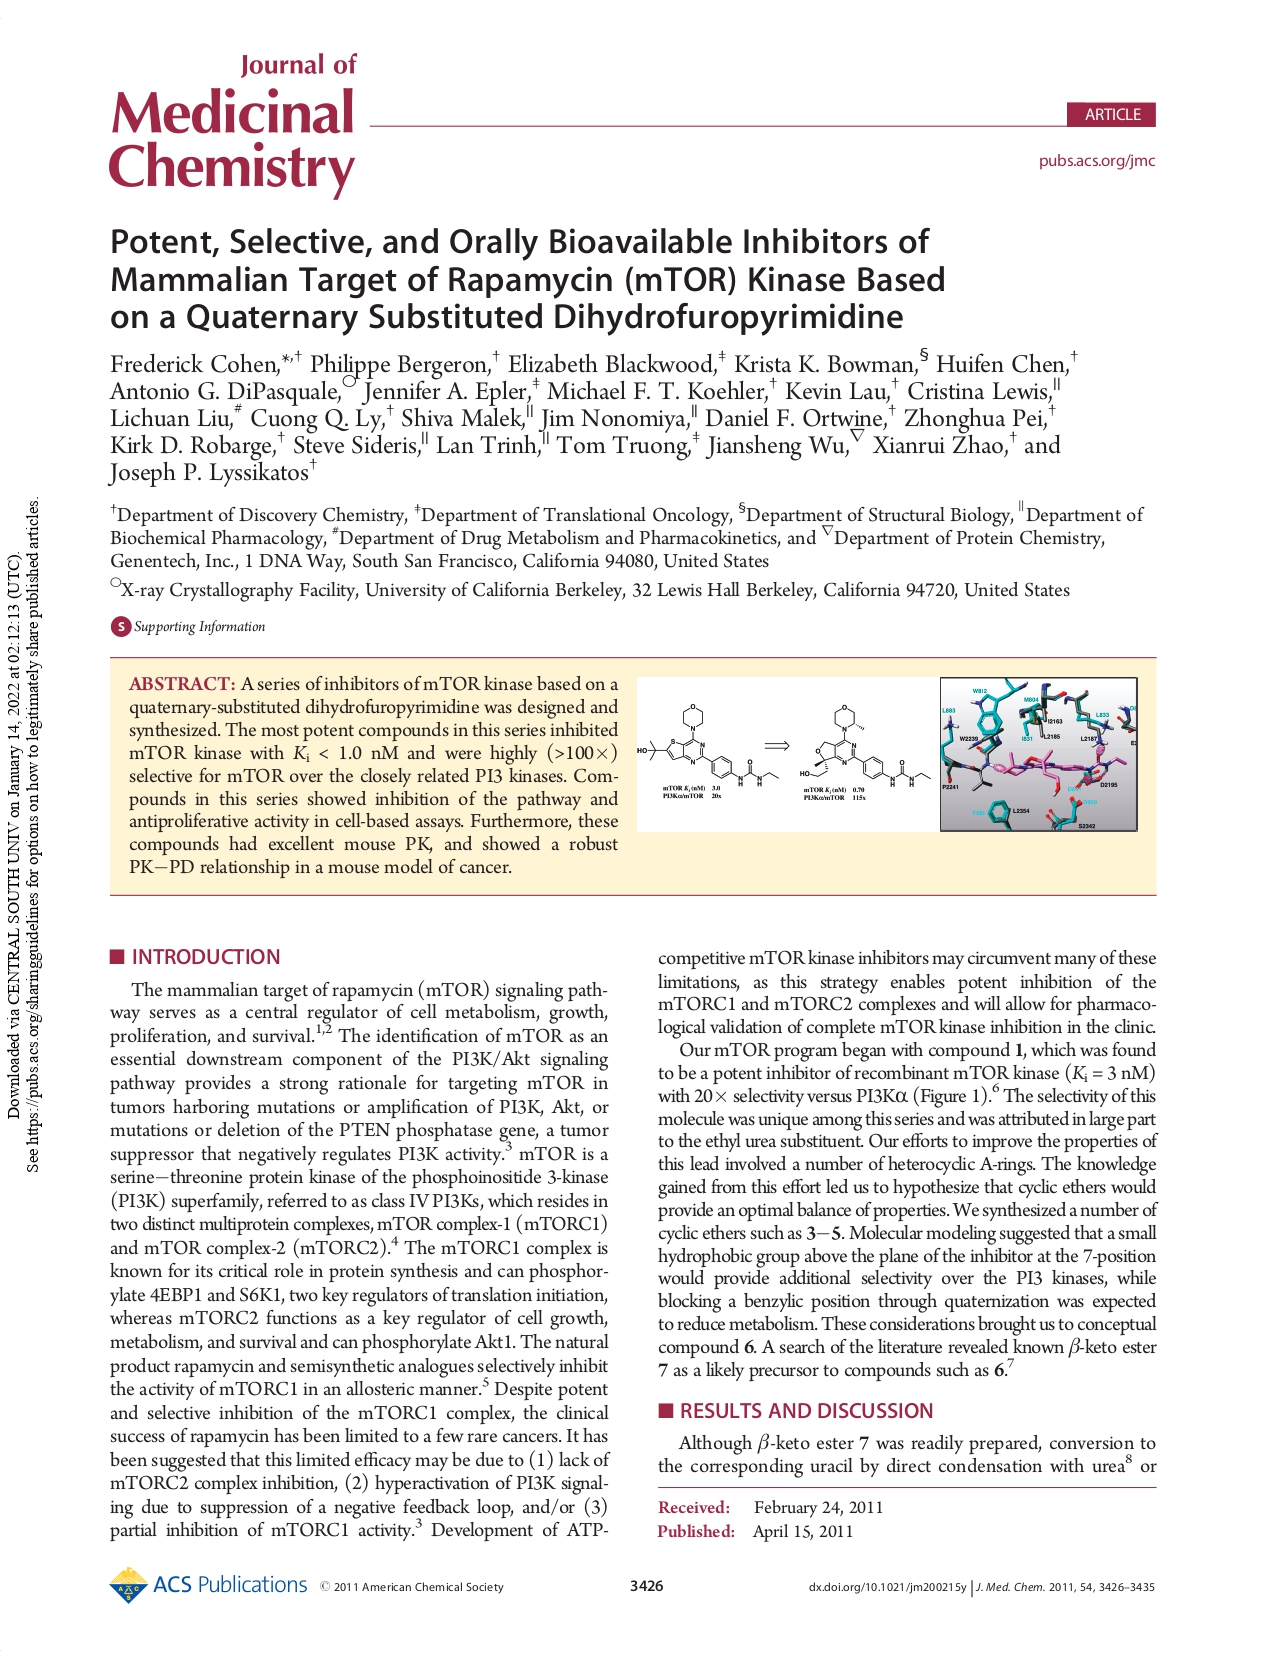exist_molecular: (636, 702, 782, 789), (798, 704, 934, 789)
